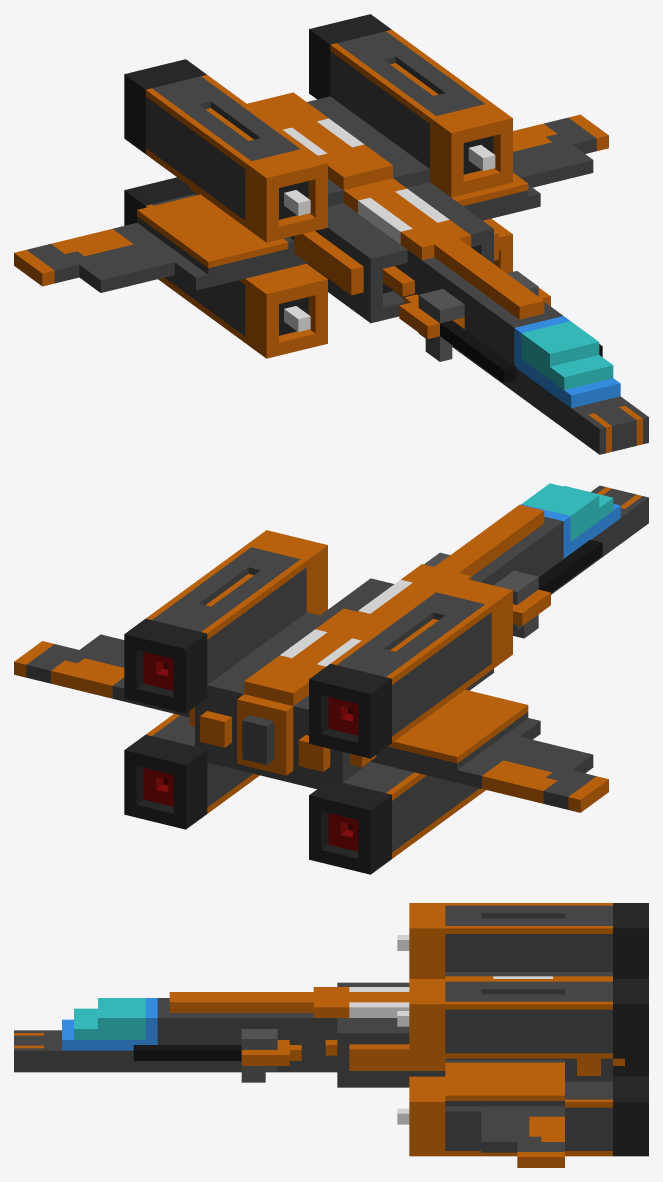
The model's file is star_2.FBX.
3 views of the same model, one above another, from view 1: azimuth 30°, elevation 25°; view 2: azimuth 150°, elevation 25°; view 3: azimuth 270°, elevation 25° (orthographic). The views are drawn at different scales.
Visible parts, largest first — view 1: star_2; view 2: star_2; view 3: star_2.
Boxes of the visible parts, left/top/right/bottom form: star_2: left=14, top=14, right=648, bottom=454; star_2: left=14, top=483, right=648, bottom=874; star_2: left=14, top=903, right=648, bottom=1167.
Bounding box in the file's own units: 27.19 × 8.28 × 31.33.
